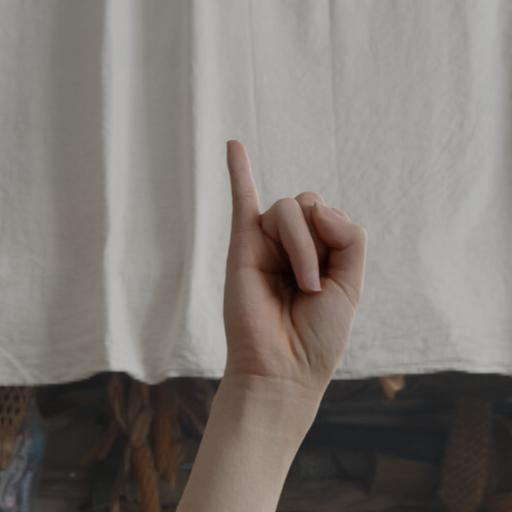I: (159, 80, 459, 456)
